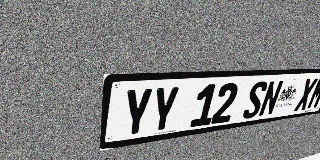1: (190, 84, 220, 127)
2: (211, 83, 240, 124)
M: (306, 77, 320, 110)
N: (258, 80, 284, 117)
S: (241, 81, 269, 120)
X: (294, 78, 318, 111)
Y: (121, 88, 154, 138), (148, 86, 180, 134)
